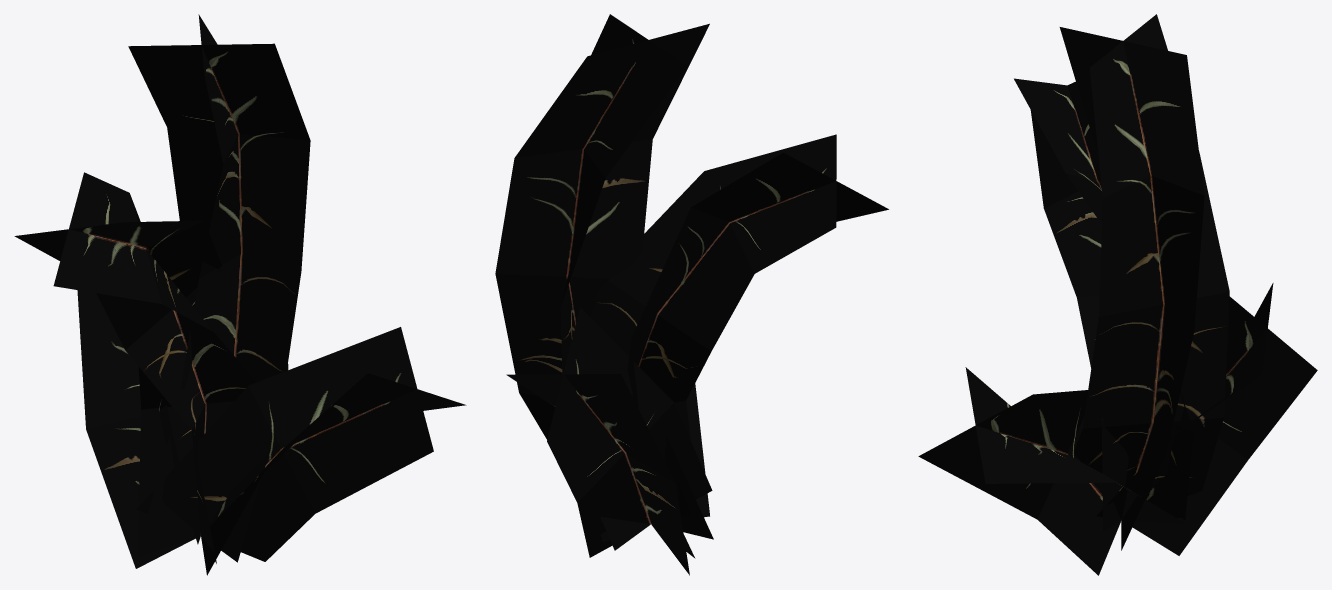
File: shrub_02.fbx
The picture shows the model from 3 angles, left to right: view 1: azimuth 30°, elevation 25°; view 2: azimuth 150°, elevation 25°; view 3: azimuth 270°, elevation 25°; orthographic projection.
Visible parts, largest first — view 1: shrub_02; view 2: shrub_02; view 3: shrub_02.
Boxes of the visible parts, x1,y1,x2,y2 form: shrub_02: [14, 14, 466, 575]; shrub_02: [495, 14, 888, 575]; shrub_02: [918, 14, 1317, 575].
Bounding box in the file's own units: 76.84 × 97.8 × 69.37.
